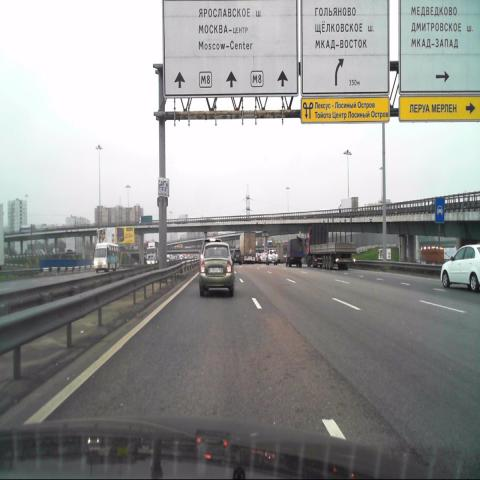5_3: (435, 195, 445, 224)
